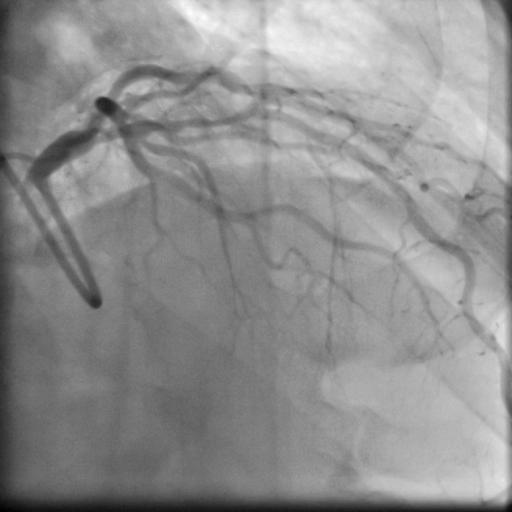Stenosis: (148, 114, 227, 133)
